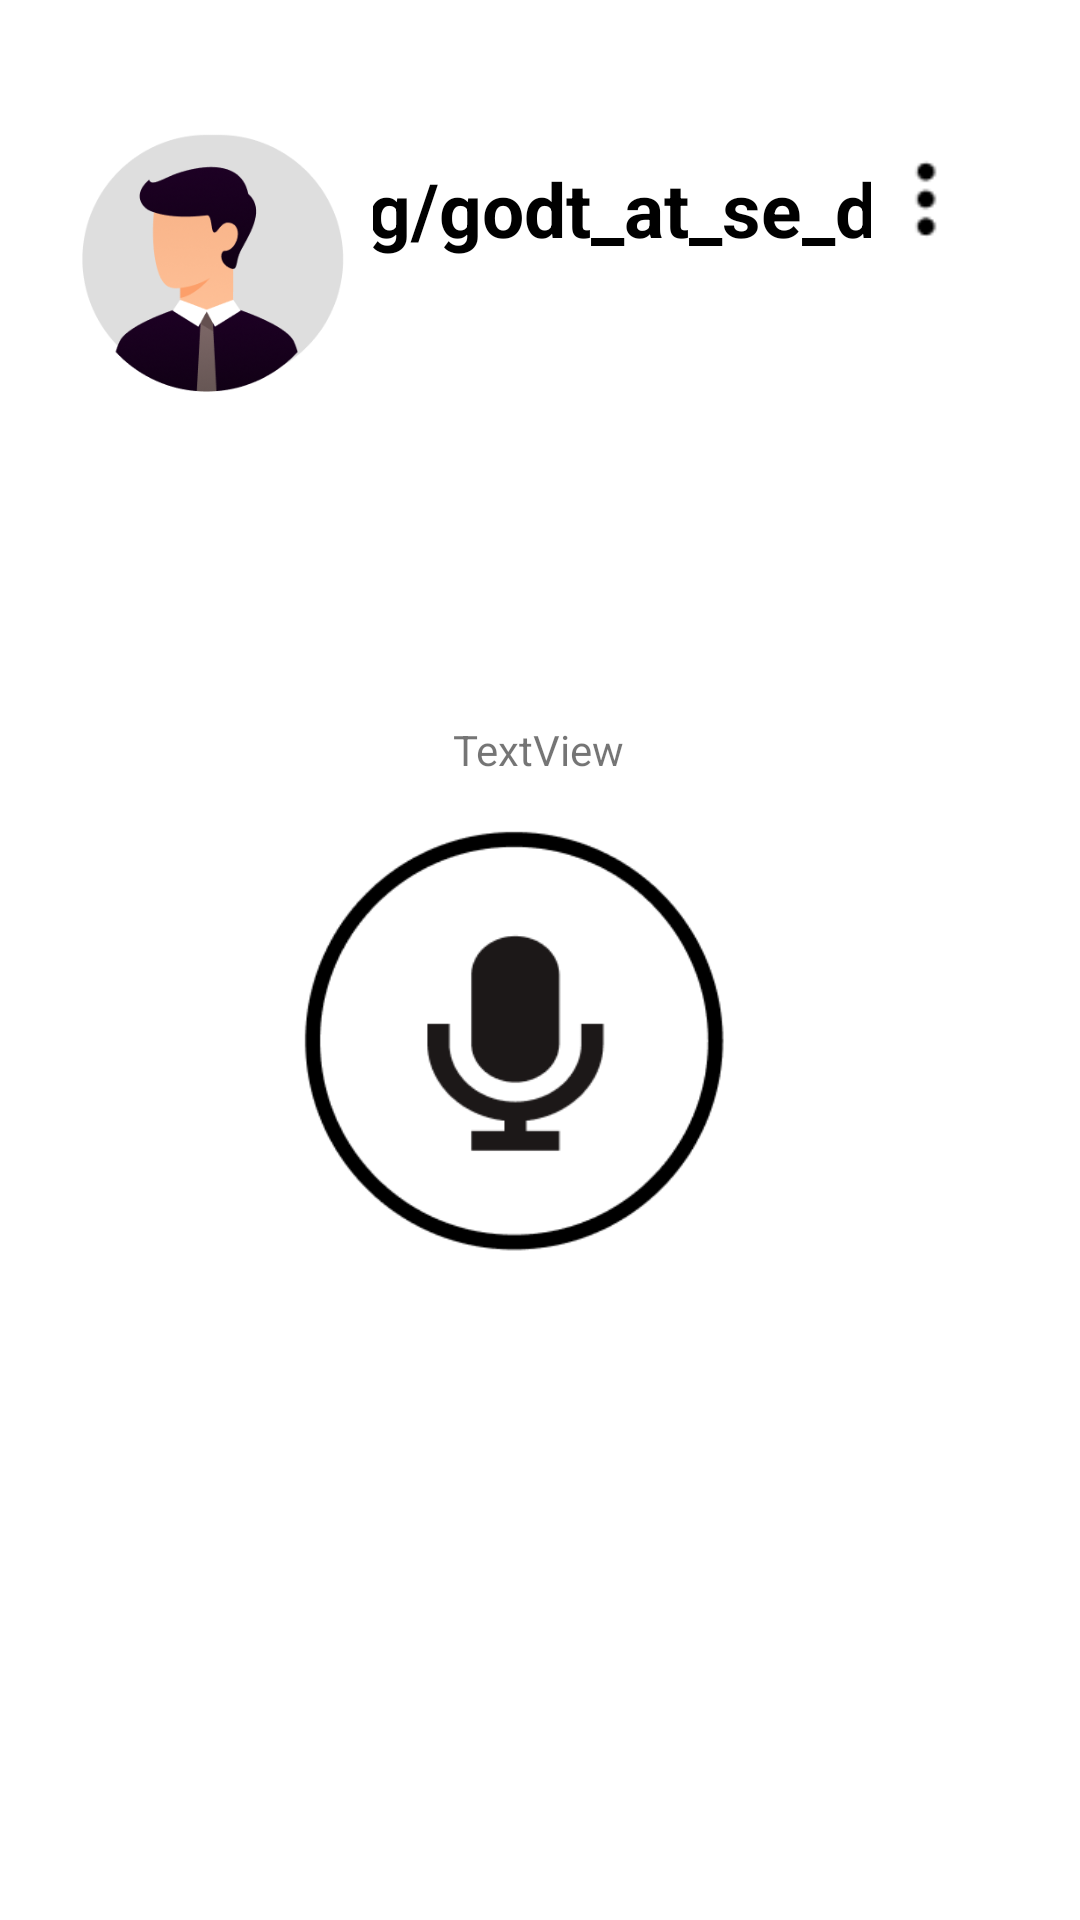

Where icons sit on this 1080px×1920px app screen, as (x1, y1, x2, y2):
prikker: (915, 162, 937, 236)
profil: (83, 135, 343, 392)
